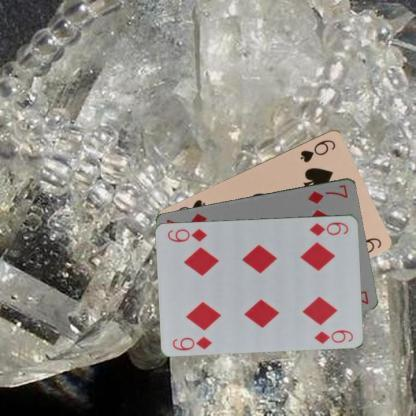6d: (306, 219, 350, 237), (170, 334, 214, 352)
6s: (297, 136, 337, 164)
7d: (305, 182, 349, 206)
